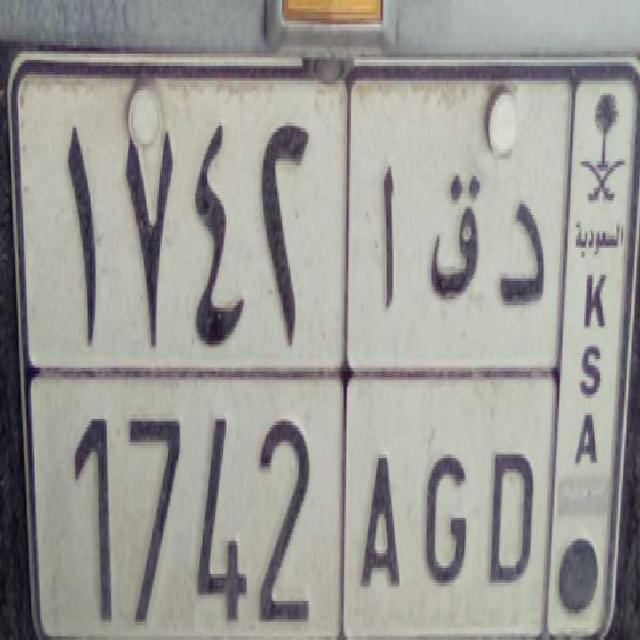license_plate: (44, 358, 542, 640)
